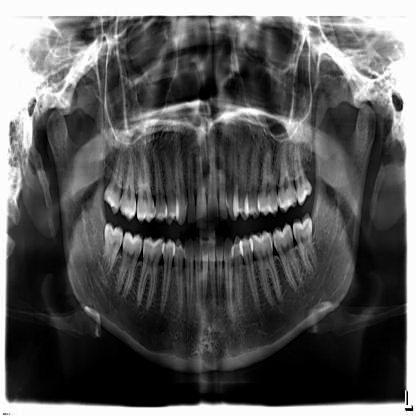Mandible: (45, 94, 376, 378)
Maxilla: (99, 123, 319, 235)
